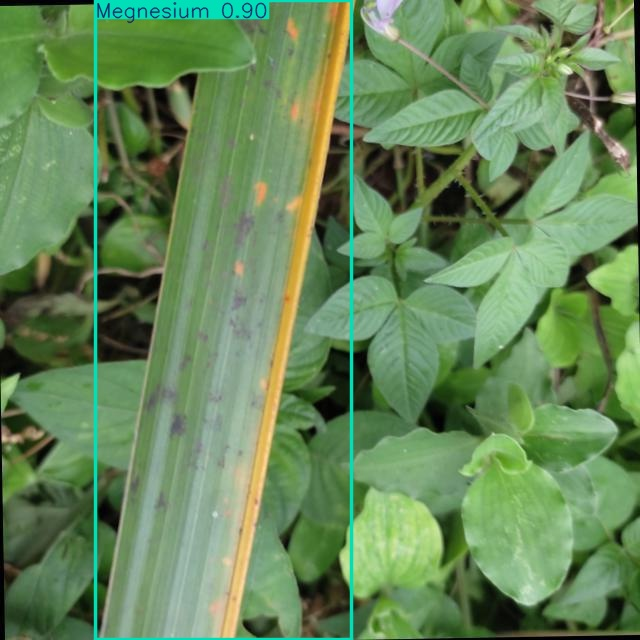Megnesium: (96, 0, 352, 640)
